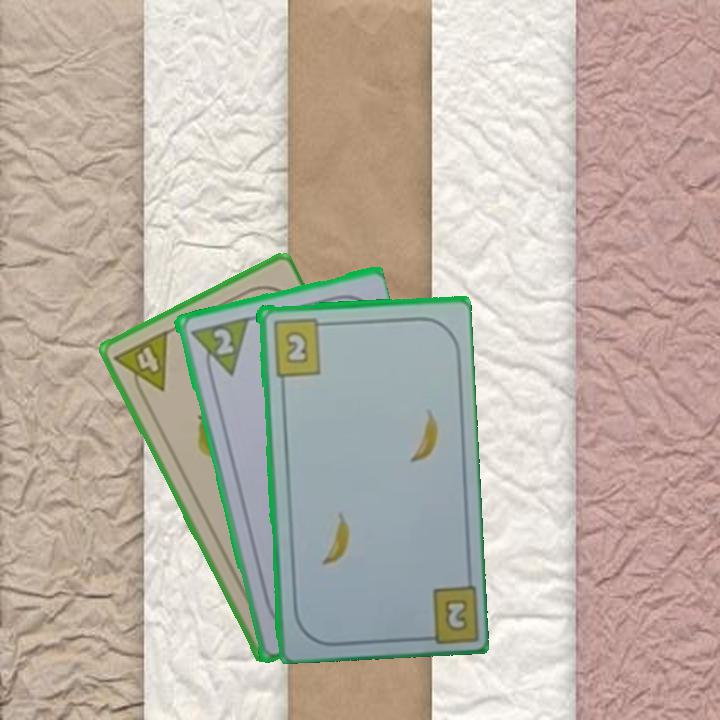2b: (413, 579, 479, 643), (269, 315, 330, 378)
2p: (209, 324, 237, 358)
4p: (110, 326, 171, 403)
